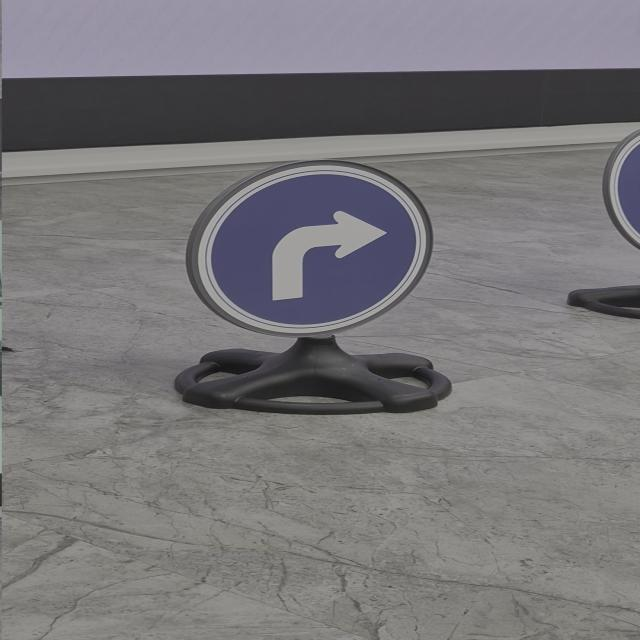right_dierection: (182, 150, 427, 340)
